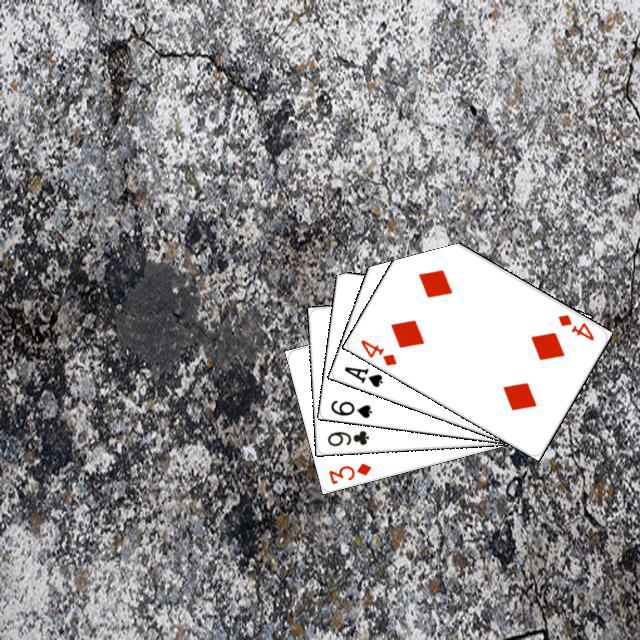3d: (324, 458, 373, 486)
4d: (356, 334, 398, 368), (553, 309, 596, 342)
6s: (326, 395, 374, 420)
9c: (323, 425, 370, 448)
As: (339, 361, 384, 389)
